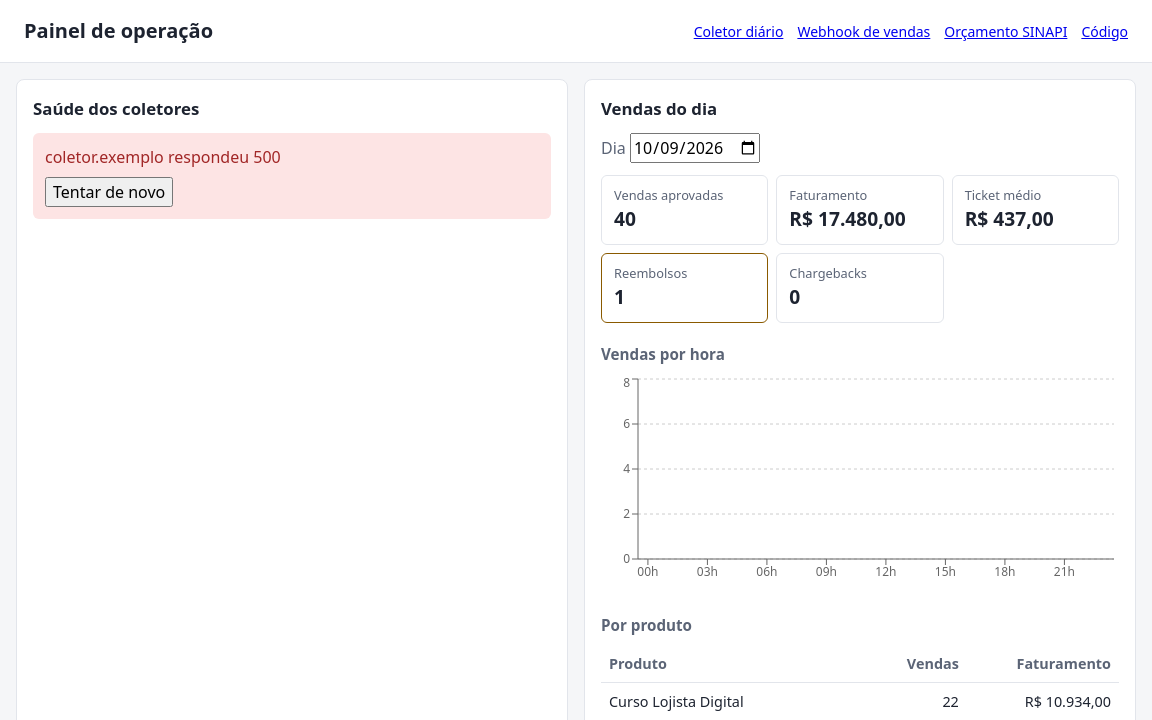
painel › erro da API aparece com botão para tentar de novo
The width and height of the screenshot is (1152, 720).
Check: the message shows "coletor.exemplo respondeu 500", box [45,146,281,168]
Click the button "Tentar de novo" at x=109, y=192, box [45,177,173,207]
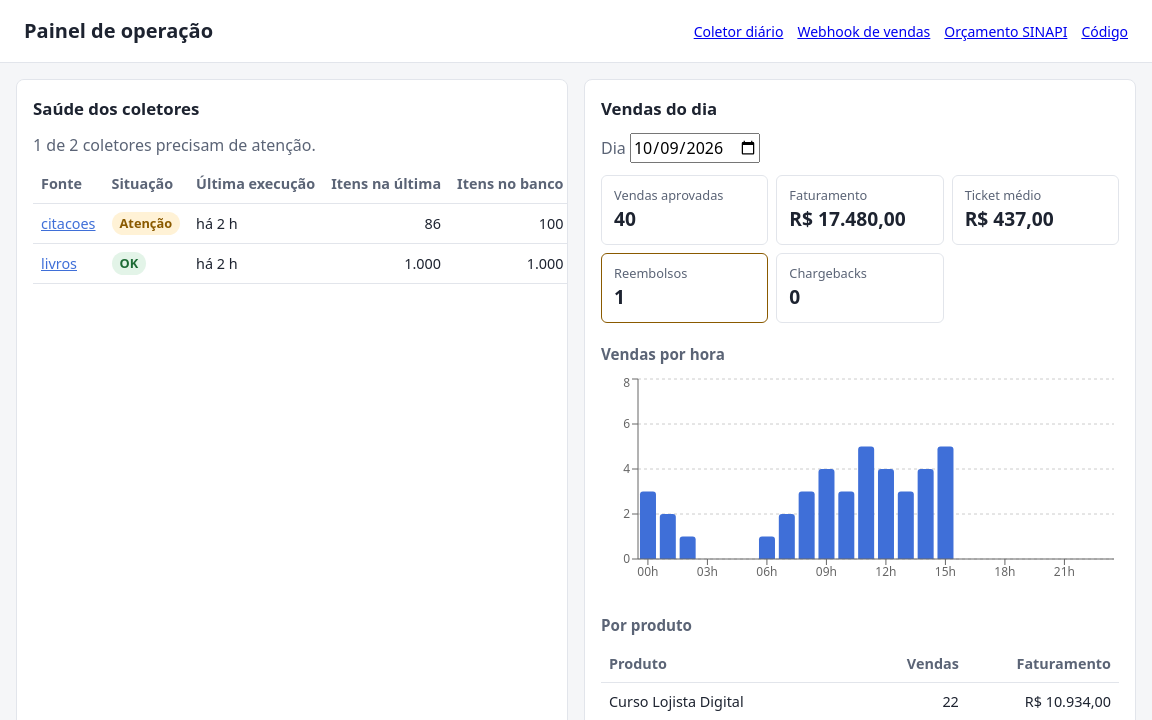
Check: the text "1 de 2 coletores precisam de atenção." is shown, box [33,134,316,156]
